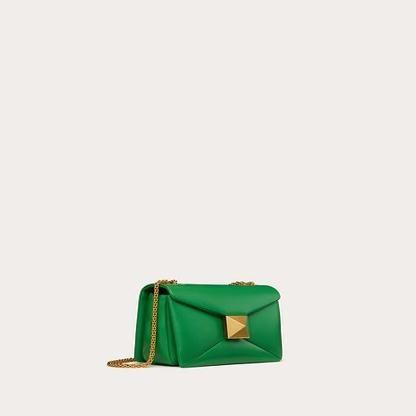not trash: (110, 276, 286, 372)
